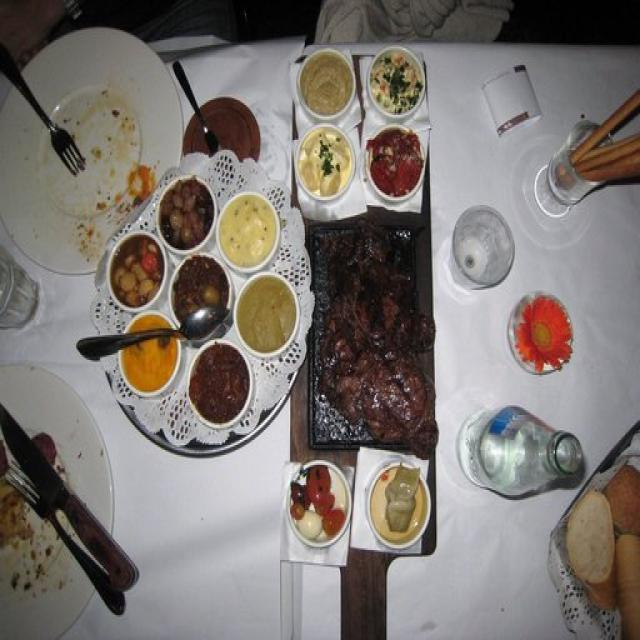Steak: (324, 234, 439, 449)
